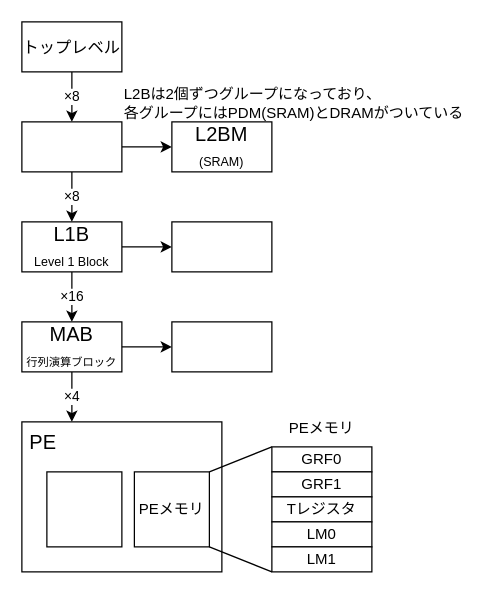
Image size: 494x595. Some labels were removed from this diagram. The centre of each missing label's shape, as x and y in pixels:
"ALU" goes at [84,509].
"L1BM (SRAM)" goes at [221,246].
"L2B Level 2 Block" goes at [71,146].
"MAU 行列演算ユニット" goes at [221,346].
